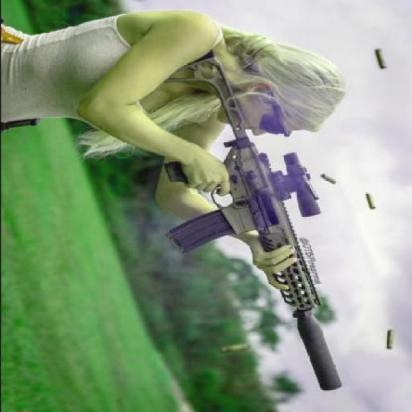Gun: (150, 49, 372, 387)
